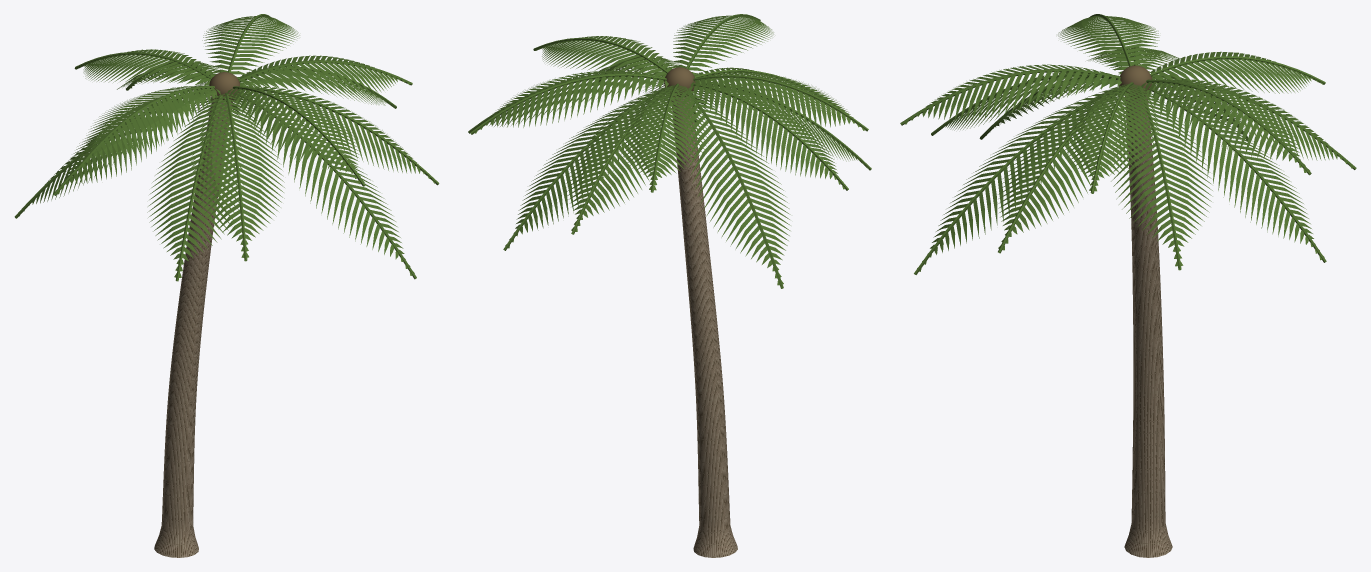
Rendered from p-palma.glb.
3 views of the same model, side by side, from view 1: azimuth 30°, elevation 25°; view 2: azimuth 150°, elevation 25°; view 3: azimuth 270°, elevation 25° (orthographic). The views are drawn at different scales.
Bounding box in the file's own units: 5.19 × 6.47 × 5.28.
3 materials, 1 textured.
